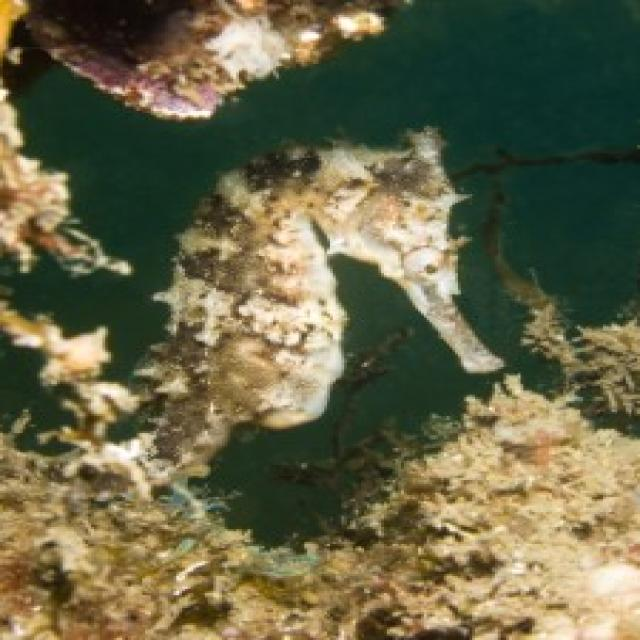Seahorse: (131, 108, 500, 466)
